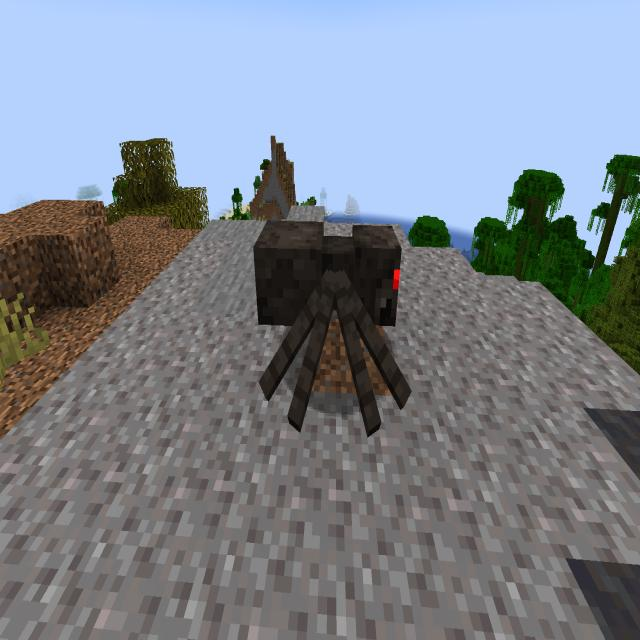Spider: (235, 198, 426, 454)
